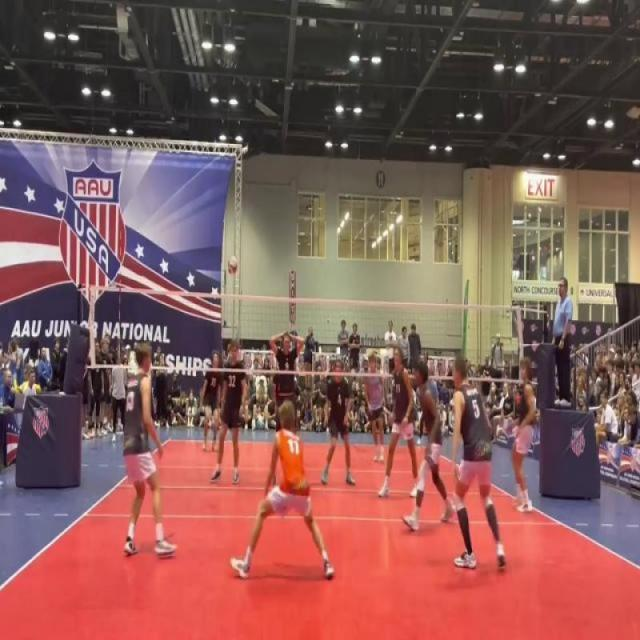volleyball: (228, 255, 238, 278)
